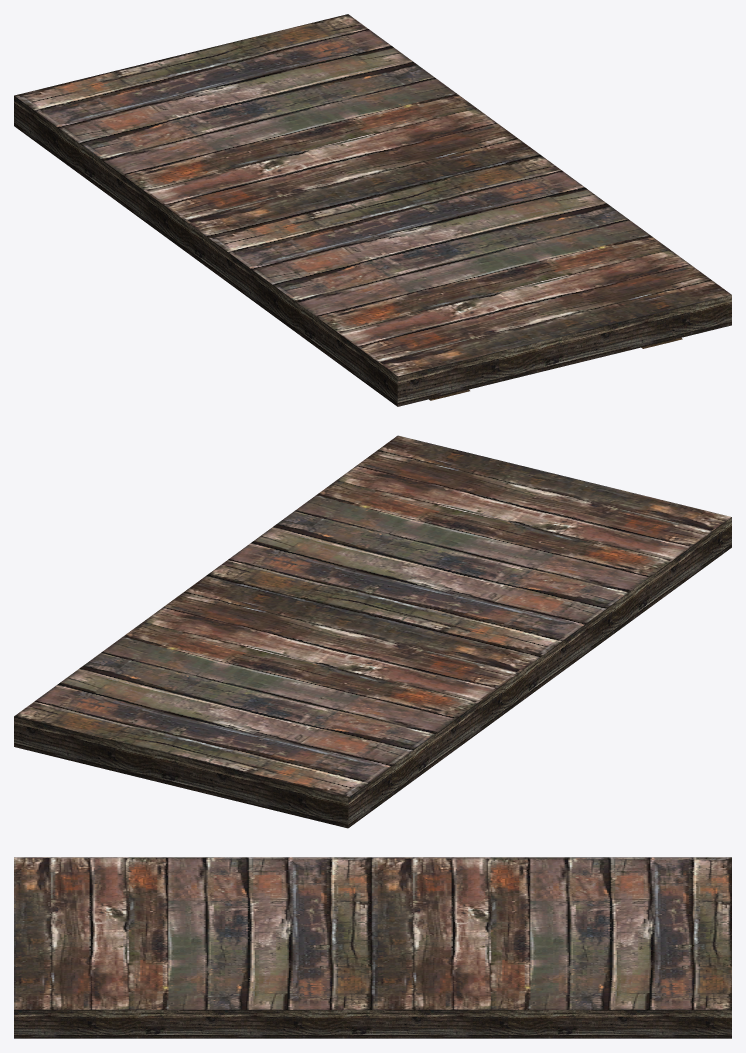
The model's file is loc2_01.glb.
The picture shows the model from 3 angles, top to bottom: view 1: azimuth 30°, elevation 25°; view 2: azimuth 150°, elevation 25°; view 3: azimuth 270°, elevation 25°; orthographic projection. The views are drawn at different scales.
Parts seen in each view (by area): view 1: loc2_01-col; view 2: loc2_01-col; view 3: loc2_01-col.
Part boxes in pixels (bbox=[...]): loc2_01-col: bbox=[14, 14, 731, 406]; loc2_01-col: bbox=[14, 435, 731, 828]; loc2_01-col: bbox=[14, 857, 731, 1038].
Size of the model in its own units: 5.74 by 0.7042 by 11.42.
Materials: 4 (4 with a texture image).
